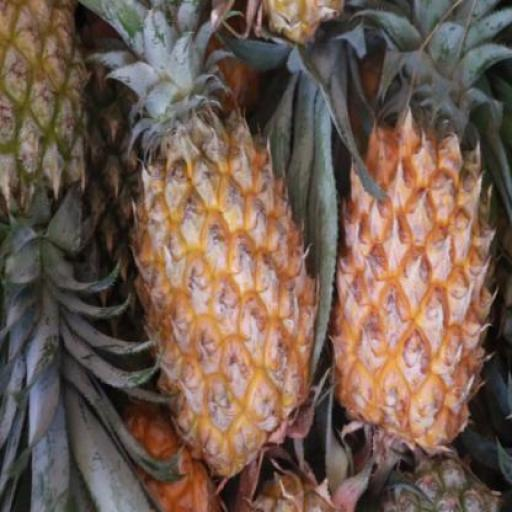Pineapple - v8 v1: (128, 118, 321, 478), (330, 120, 486, 457)
